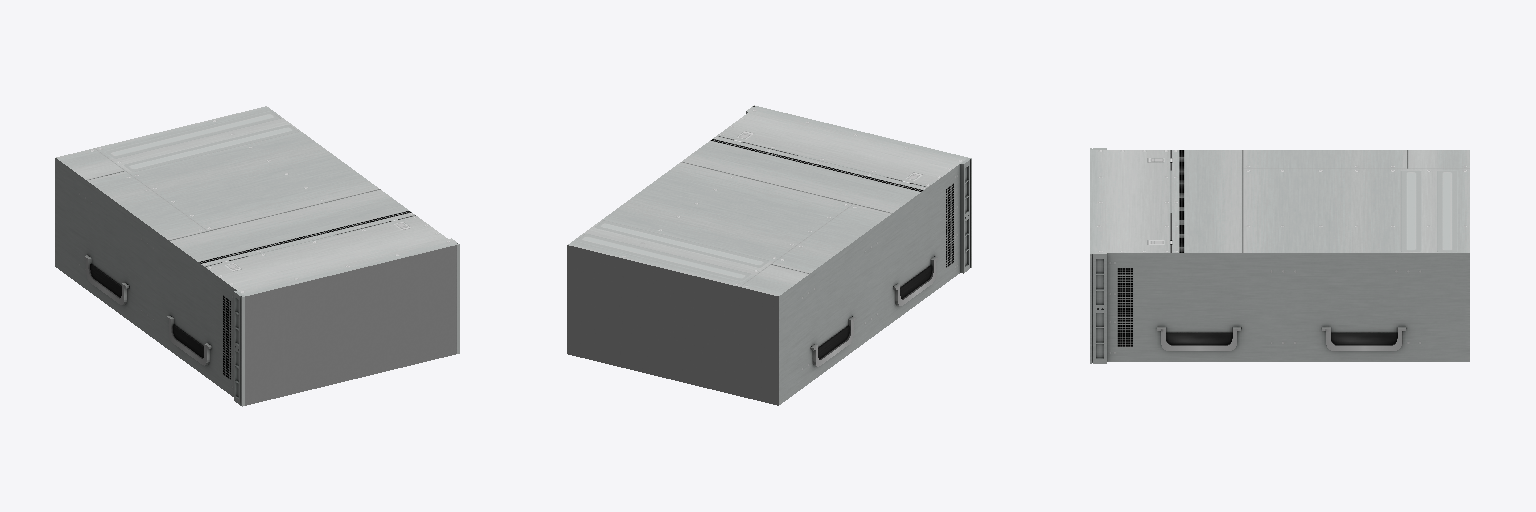
The picture shows the model from 3 angles: view 1: azimuth 30°, elevation 25°; view 2: azimuth 150°, elevation 25°; view 3: azimuth 270°, elevation 25°; orthographic projection.
Visible parts, largest first — view 1: Box04; view 2: Box04; view 3: Box04.
Boxes of the visible parts, x1=… form: Box04: x1=55, y1=106, x2=459, y2=406; Box04: x1=567, y1=105, x2=971, y2=405; Box04: x1=1090, y1=148, x2=1469, y2=363.
Bounding box in the file's own units: 46.4 × 22.25 × 70.
1 materials, 1 textured.